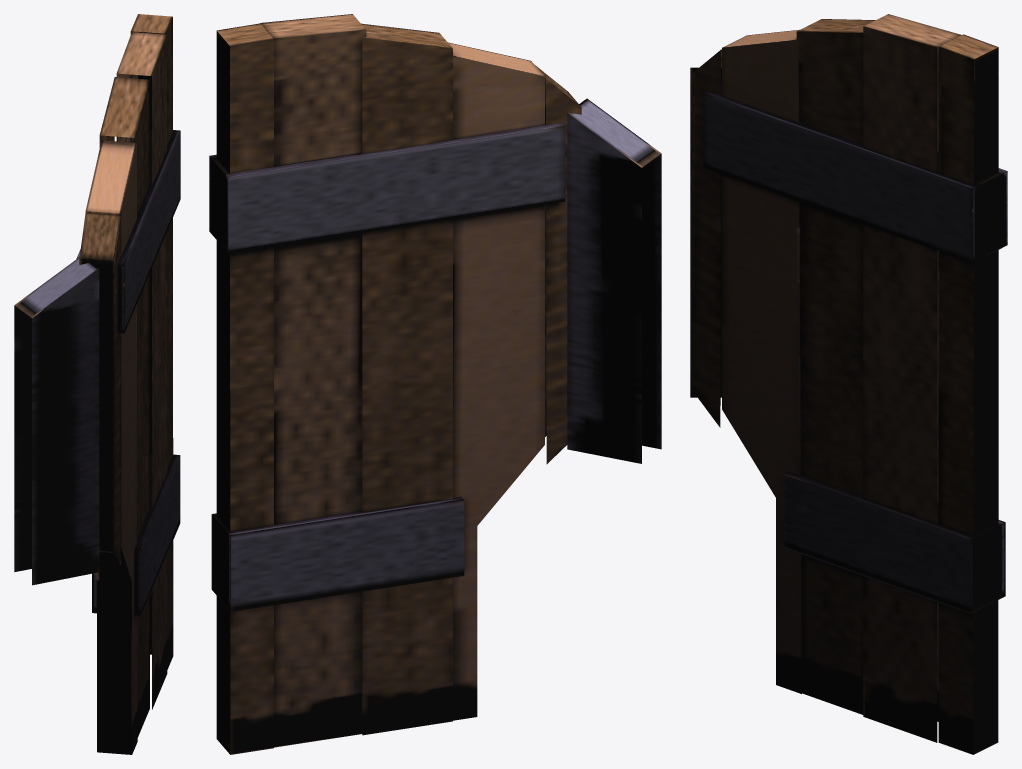
File: DoorSide2F5.obj
The picture shows the model from 3 angles, left to right: view 1: azimuth 30°, elevation 25°; view 2: azimuth 150°, elevation 25°; view 3: azimuth 270°, elevation 25°; orthographic projection. The views are drawn at different scales.
Parts seen in each view (by area): view 1: DoorSide2F5_Cube.426; view 2: DoorSide2F5_Cube.426; view 3: DoorSide2F5_Cube.426.
Part boxes in pixels (left/top/right/bottom): DoorSide2F5_Cube.426: left=14, top=14, right=180, bottom=754; DoorSide2F5_Cube.426: left=209, top=14, right=661, bottom=754; DoorSide2F5_Cube.426: left=690, top=14, right=1007, bottom=754.
Bounding box in the file's own units: 81.35 × 179 × 73.79.
